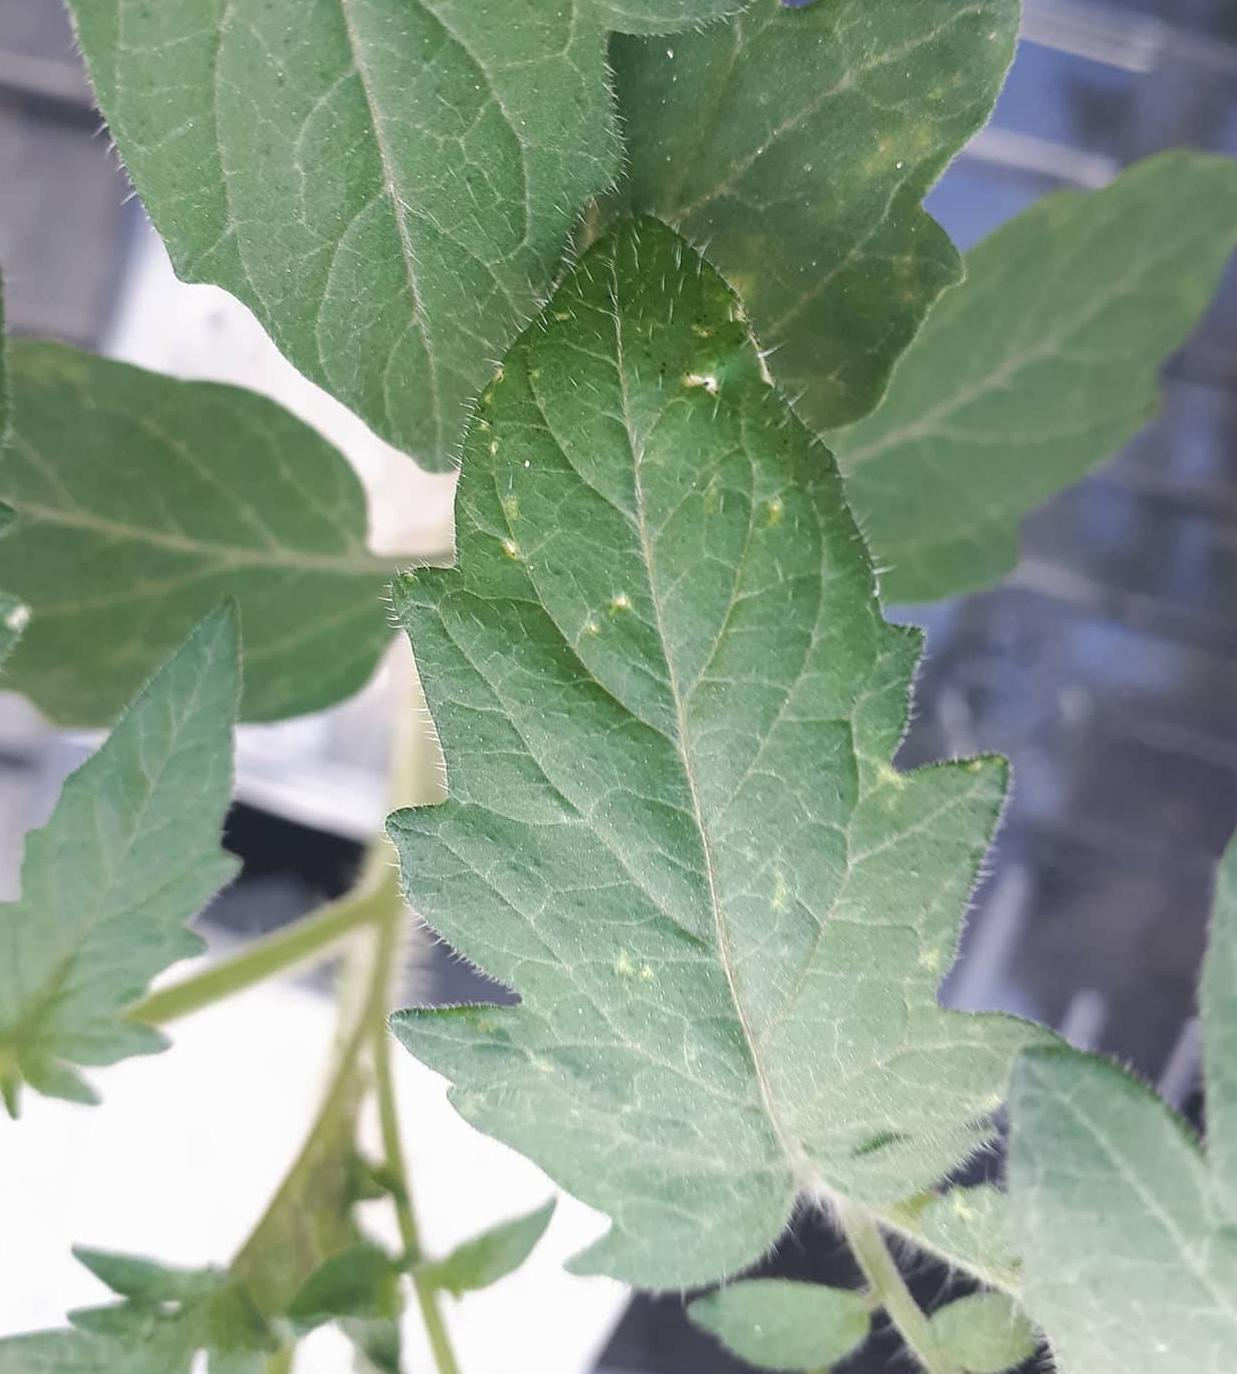Tomato mold leaf: (365, 193, 990, 1351), (0, 0, 755, 509)
